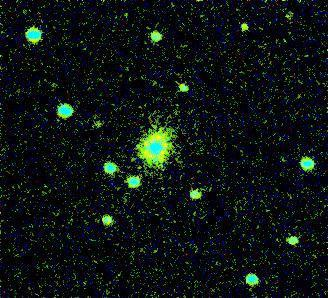star: (229, 13, 259, 43)
